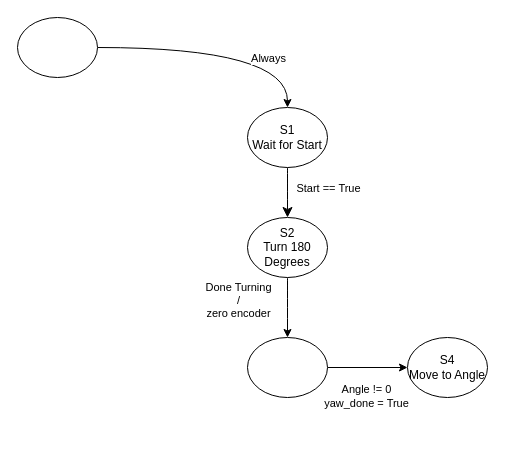
This 515x465 diagram has some shape labels left out. The centre of each missing label's shape, as x and y in pixels:
"S0 INIT" goes at point 57,47.
"S3 Wait for Angle" goes at point 287,367.
